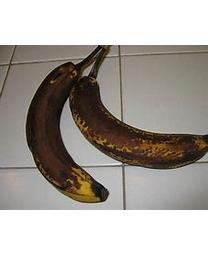banana: (24, 45, 207, 203)
